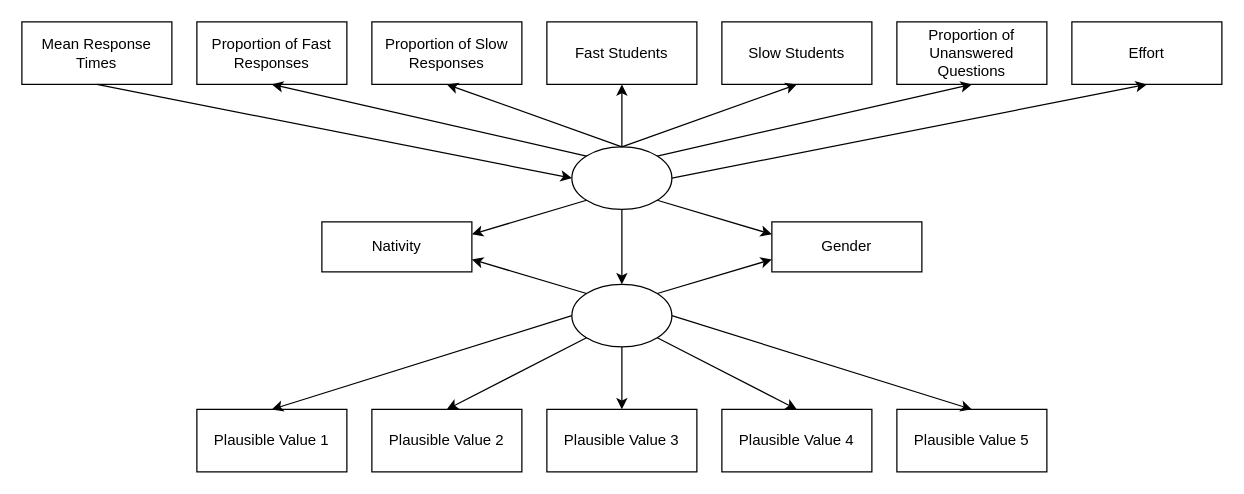
Image size: 1244x494. Some labels were removed from this diagram. The shapes that lost their labels are listed below. From the top down, each one's box as (x1, y1, x2, y2) in pixels, then its label:
(571, 146, 672, 209): Motivation
(571, 283, 672, 347): Ability
